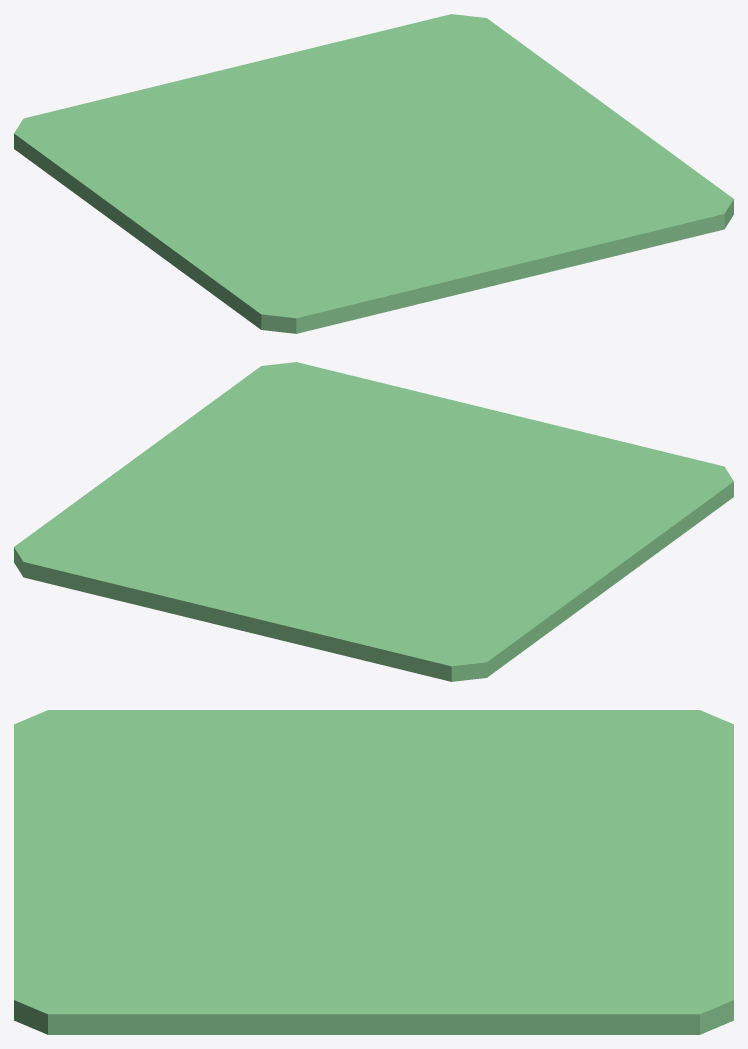
3 renders of one model, top to bottom at view 1: azimuth 30°, elevation 25°; view 2: azimuth 150°, elevation 25°; view 3: azimuth 270°, elevation 25°, orthographic. The views are drawn at different scales.
Visible parts, largest first — view 1: mesh9053, mesh9052, mesh9048, mesh9051; view 2: mesh9053, mesh9050, mesh9048, mesh9049; view 3: mesh9053, mesh9055, mesh9056, mesh9057.
Part boxes in pixels (x1,y1,x2,y2): mesh9053: [14, 14, 733, 318]; mesh9052: [296, 214, 724, 333]; mesh9048: [14, 133, 261, 329]; mesh9051: [261, 314, 296, 333]; mesh9053: [14, 362, 733, 666]; mesh9050: [23, 562, 451, 681]; mesh9048: [486, 481, 733, 677]; mesh9049: [451, 662, 486, 681]; mesh9053: [14, 710, 733, 1014]; mesh9055: [48, 1014, 699, 1034]; mesh9056: [14, 1000, 47, 1034]; mesh9057: [700, 1000, 733, 1034].
Bounding box in the file's own units: 0.0254 × 0.0008 × 0.0254.
